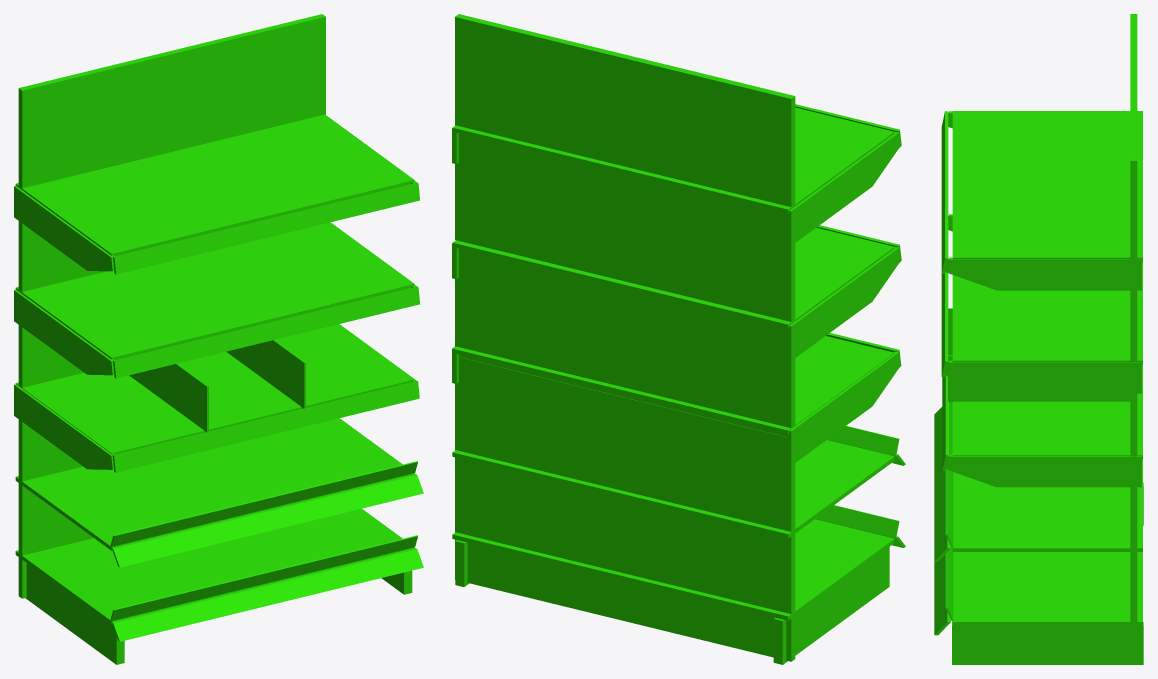
The model's file is Shop_Shelf_A_07_Lod0.fbx.
3 views of the same model, side by side, from view 1: azimuth 30°, elevation 25°; view 2: azimuth 150°, elevation 25°; view 3: azimuth 270°, elevation 25° (orthographic). The views are drawn at different scales.
Visible parts, largest first — view 1: Shop_Shelf_A_07_Lod0; view 2: Shop_Shelf_A_07_Lod0; view 3: Shop_Shelf_A_07_Lod0.
Part boxes in pixels (x1,y1,x2,y2): Shop_Shelf_A_07_Lod0: [14, 14, 423, 664]; Shop_Shelf_A_07_Lod0: [452, 14, 905, 664]; Shop_Shelf_A_07_Lod0: [934, 14, 1143, 664].
Size of the model in its own units: 135 by 215 by 80.68.
